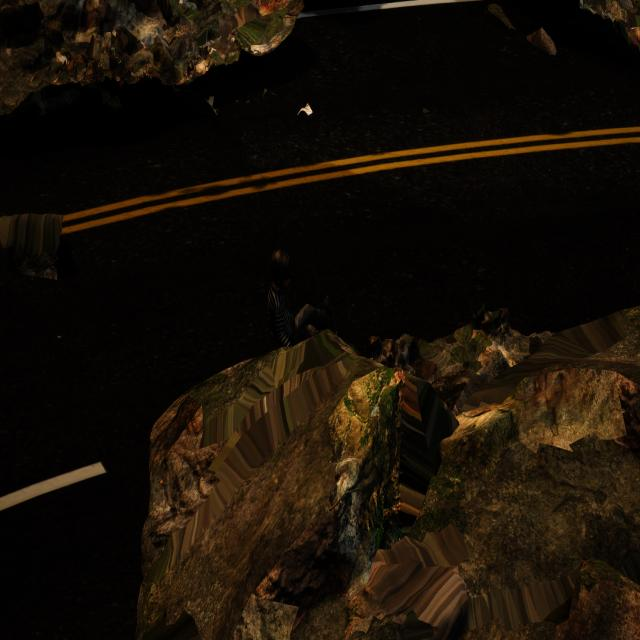Human: (258, 243, 345, 358)
